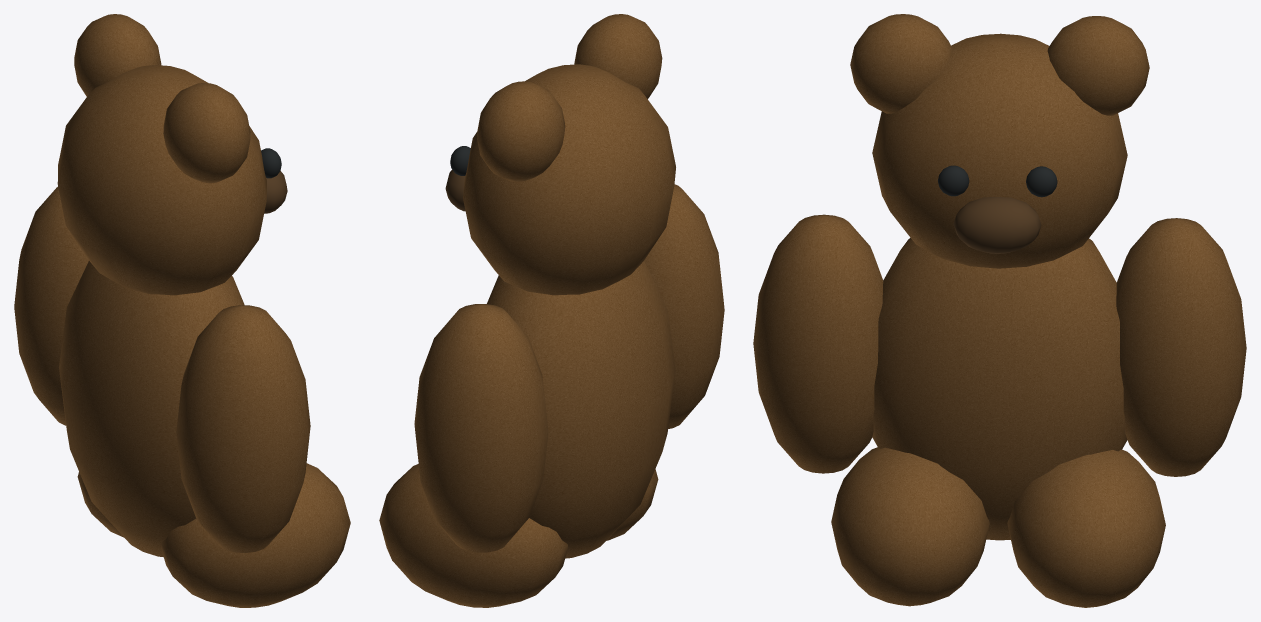
The model's file is SM_TeddyPrize_0b6cbc3c4b.fbx.
3 views of the same model, side by side, from view 1: azimuth 30°, elevation 25°; view 2: azimuth 150°, elevation 25°; view 3: azimuth 270°, elevation 25° (orthographic). The views are drawn at different scales.
Visible parts, largest first — view 1: SM_TeddyPrize_0b6cbc3c4b; view 2: SM_TeddyPrize_0b6cbc3c4b; view 3: SM_TeddyPrize_0b6cbc3c4b.
Boxes of the visible parts, x1,y1,x2,y2 form: SM_TeddyPrize_0b6cbc3c4b: (14, 14, 350, 607); SM_TeddyPrize_0b6cbc3c4b: (379, 14, 724, 607); SM_TeddyPrize_0b6cbc3c4b: (753, 14, 1246, 607).
Size of what is drawn, in the model's own units: 28.86 by 51.75 by 63.78.
Materials: 3 (1 with a texture image).
